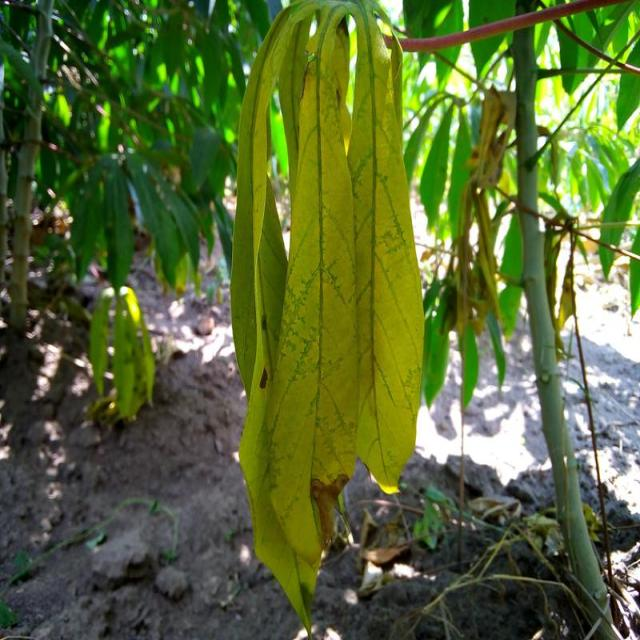cassava leaf: (229, 0, 426, 636)
